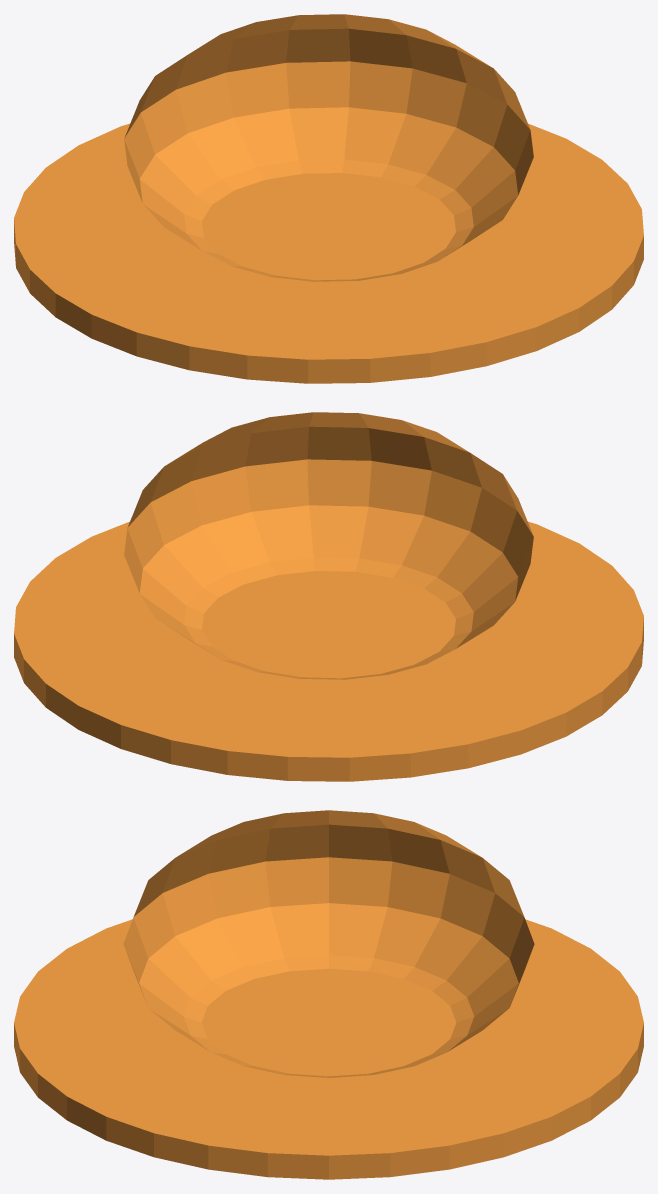
The model's file is disc_cone.glb.
3 renders of one model, top to bottom at view 1: azimuth 30°, elevation 25°; view 2: azimuth 150°, elevation 25°; view 3: azimuth 270°, elevation 25°, orthographic.
Parts seen in each view (by area): view 1: world; view 2: world; view 3: world.
Part boxes in pixels (bbox=[...]): world: bbox=[14, 14, 643, 383]; world: bbox=[14, 412, 643, 781]; world: bbox=[14, 810, 643, 1179].
Bounding box in the file's own units: 0.19 × 0.0682 × 0.19.
